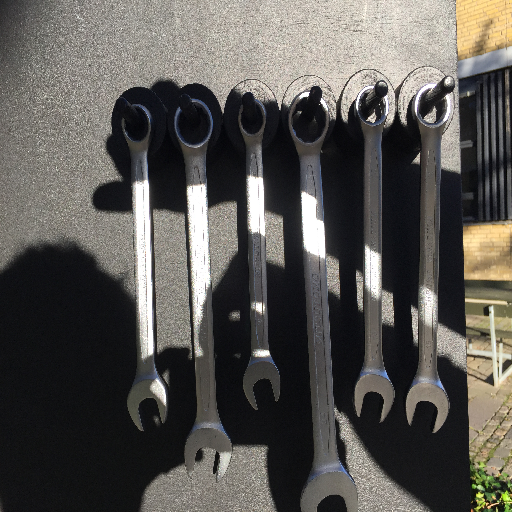bottom: (297, 460, 364, 512), (184, 420, 233, 481), (404, 375, 451, 435), (352, 367, 397, 424), (126, 377, 170, 432), (242, 353, 282, 411)
top: (286, 91, 331, 155), (172, 97, 215, 154), (410, 83, 453, 135), (353, 83, 392, 133), (235, 96, 271, 143), (120, 102, 155, 150)
